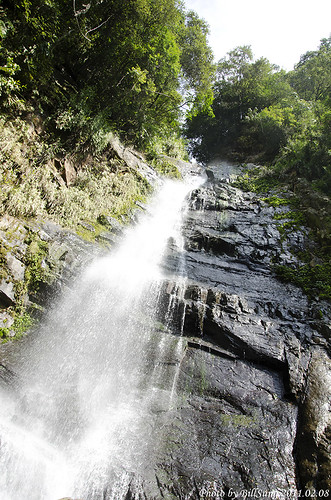wufengciWaterfall: (62, 123, 222, 500)
